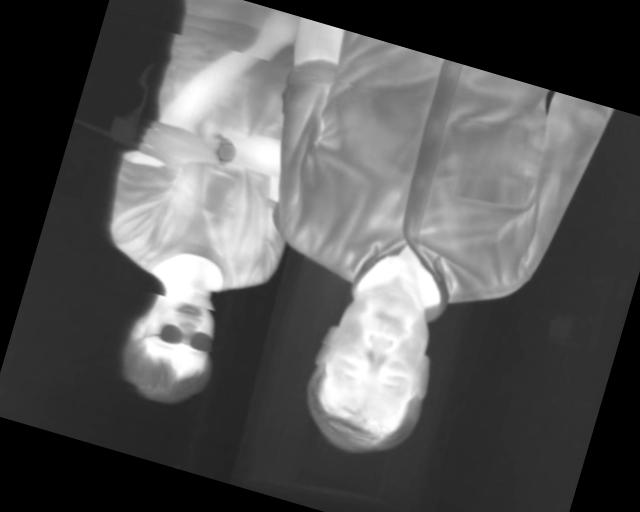face: (291, 267, 454, 470), (112, 270, 232, 414)
